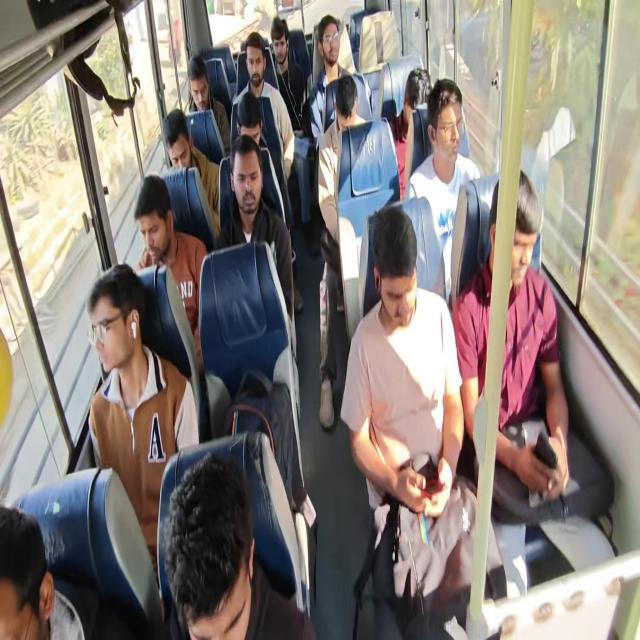person: (135, 430, 274, 640), (374, 212, 476, 396), (0, 506, 119, 640), (90, 252, 152, 399), (494, 166, 544, 289), (140, 188, 191, 278), (181, 31, 221, 130), (222, 145, 266, 230), (312, 15, 356, 89), (170, 100, 208, 181), (431, 94, 473, 147), (228, 94, 266, 152), (401, 58, 434, 120), (338, 84, 374, 138), (269, 17, 301, 63), (239, 49, 268, 85)
